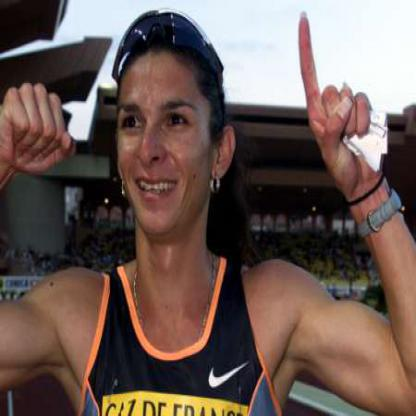face: (117, 31, 221, 238)
